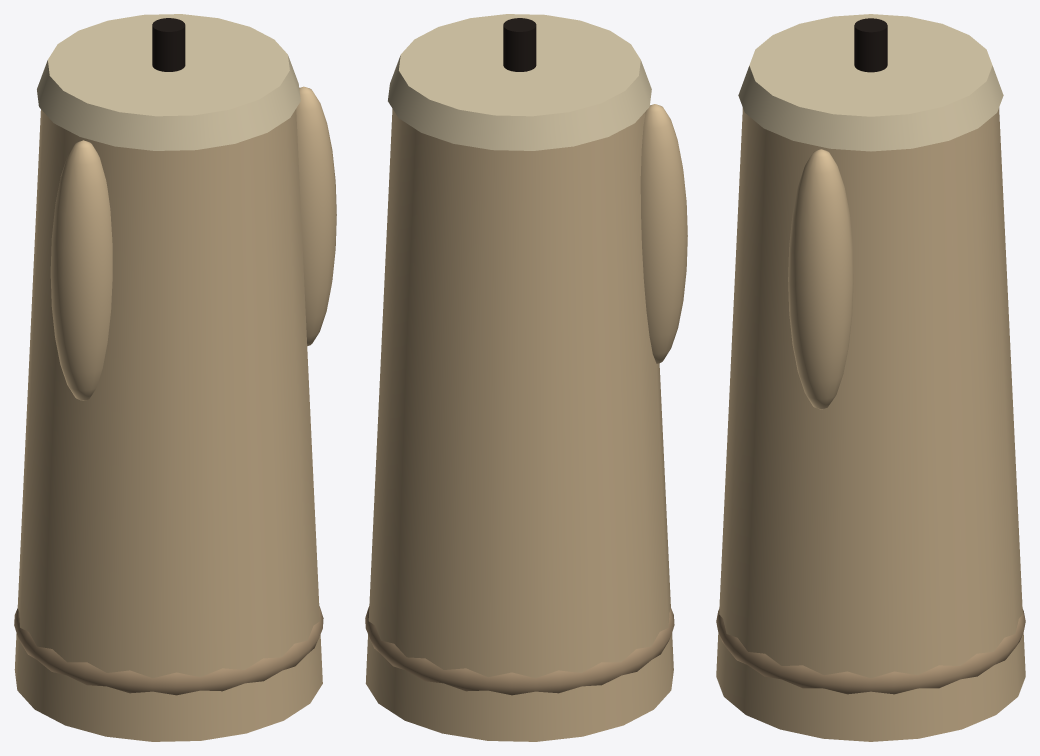
Rendered from mia-candle_set.glb.
3 renders of one model, left to right at view 1: azimuth 30°, elevation 25°; view 2: azimuth 150°, elevation 25°; view 3: azimuth 270°, elevation 25°, orthographic.
Visible parts, largest first — view 1: Body_ivory, Body_page-light, Body_page-beige, Body_black; view 2: Body_ivory, Body_page-light, Body_page-beige, Body_black; view 3: Body_ivory, Body_page-light, Body_page-beige, Body_black.
Part boxes in pixels (<box>): Body_ivory: <box>14,86,336,741</box>; Body_page-light: <box>37,14,300,150</box>; Body_page-beige: <box>14,606,323,695</box>; Body_black: <box>152,18,185,71</box>; Body_ivory: <box>365,104,687,741</box>; Body_page-light: <box>388,14,651,150</box>; Body_page-beige: <box>365,606,674,695</box>; Body_black: <box>503,18,536,71</box>; Body_ivory: <box>716,107,1025,741</box>; Body_page-light: <box>738,14,1003,151</box>; Body_page-beige: <box>716,609,1025,694</box>; Body_black: <box>854,18,887,72</box>.
Bounding box in the file's own units: 0.058 × 0.13 × 0.056.
